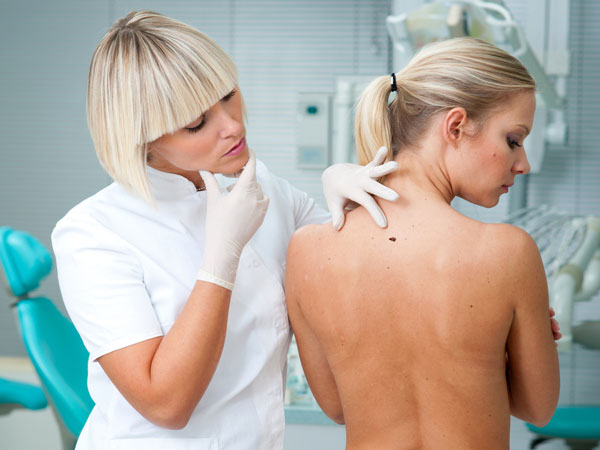mole: (385, 232, 401, 246), (488, 149, 498, 160)
